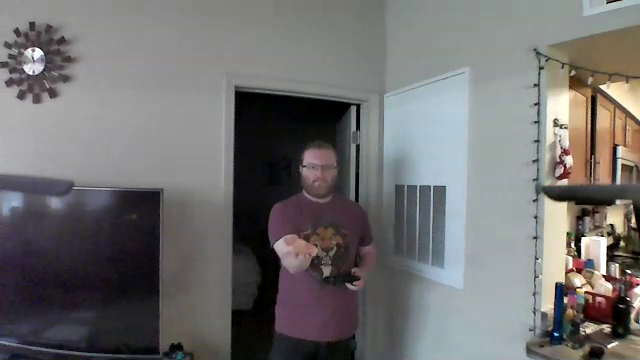land: (280, 234, 318, 264)
